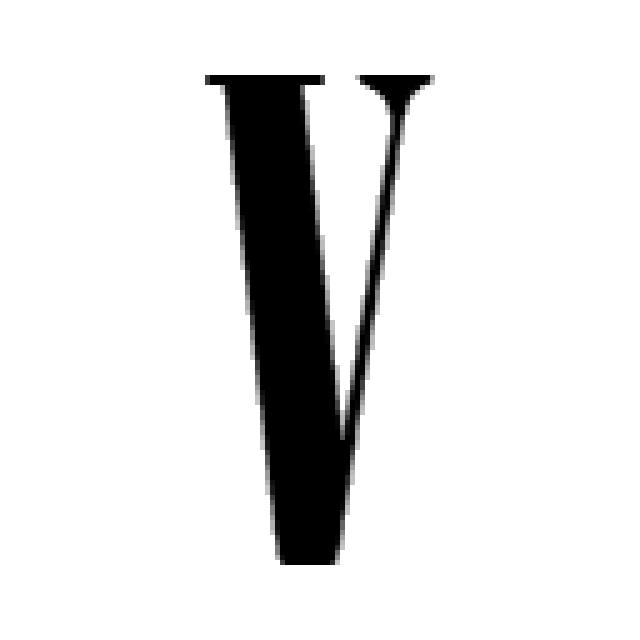V: (195, 60, 440, 570)
